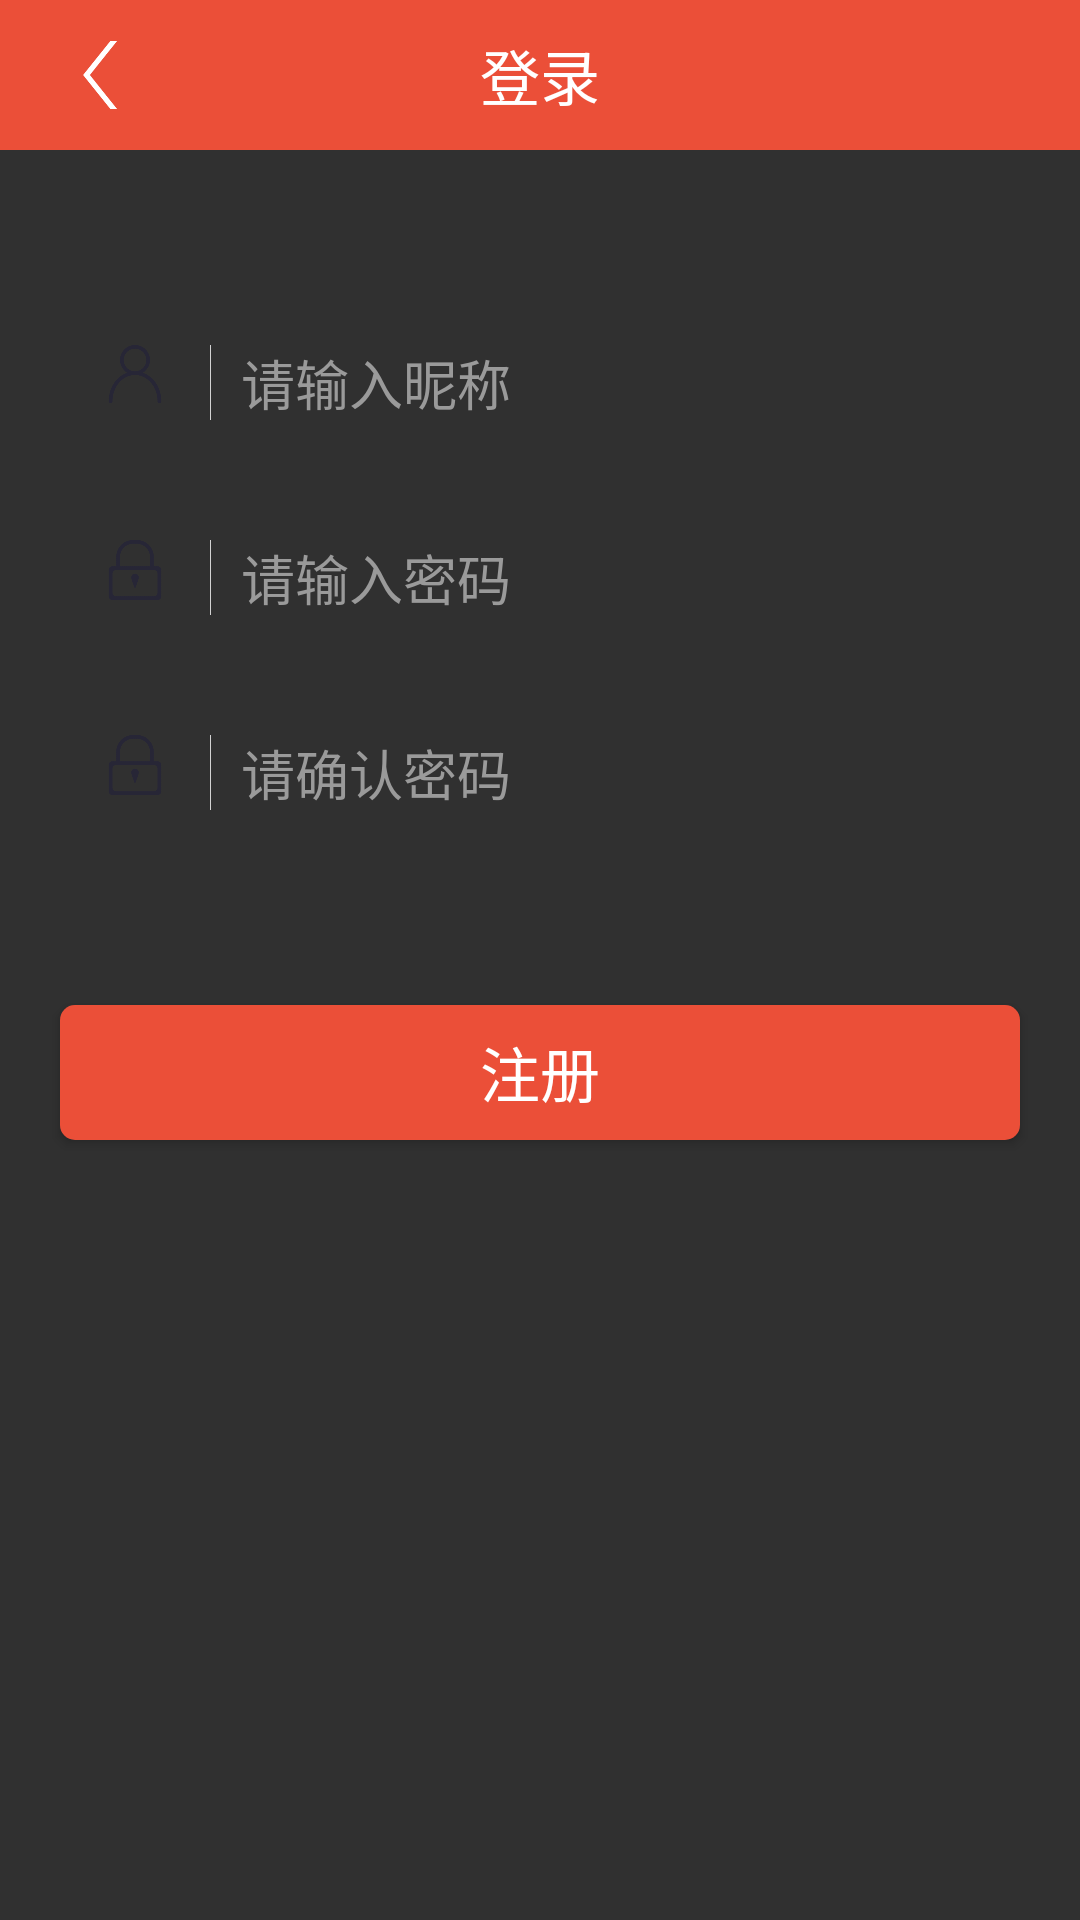

Point at icon controls on the screen. Image size 1080px×1920px, points as (x=x, y=y).
return arrow: (x=100, y=75)
